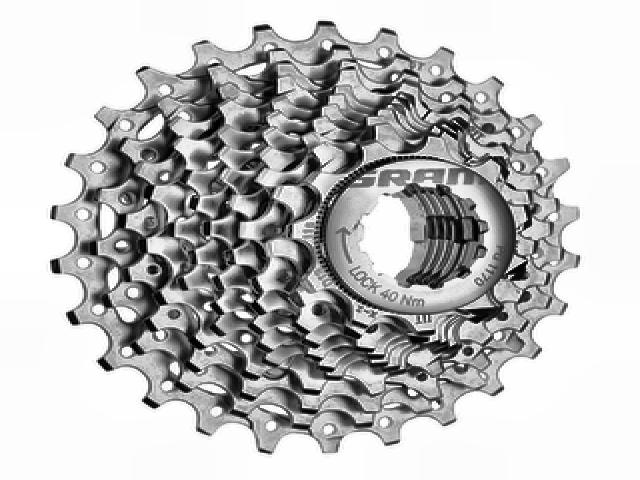cassette: (49, 22, 583, 458)
